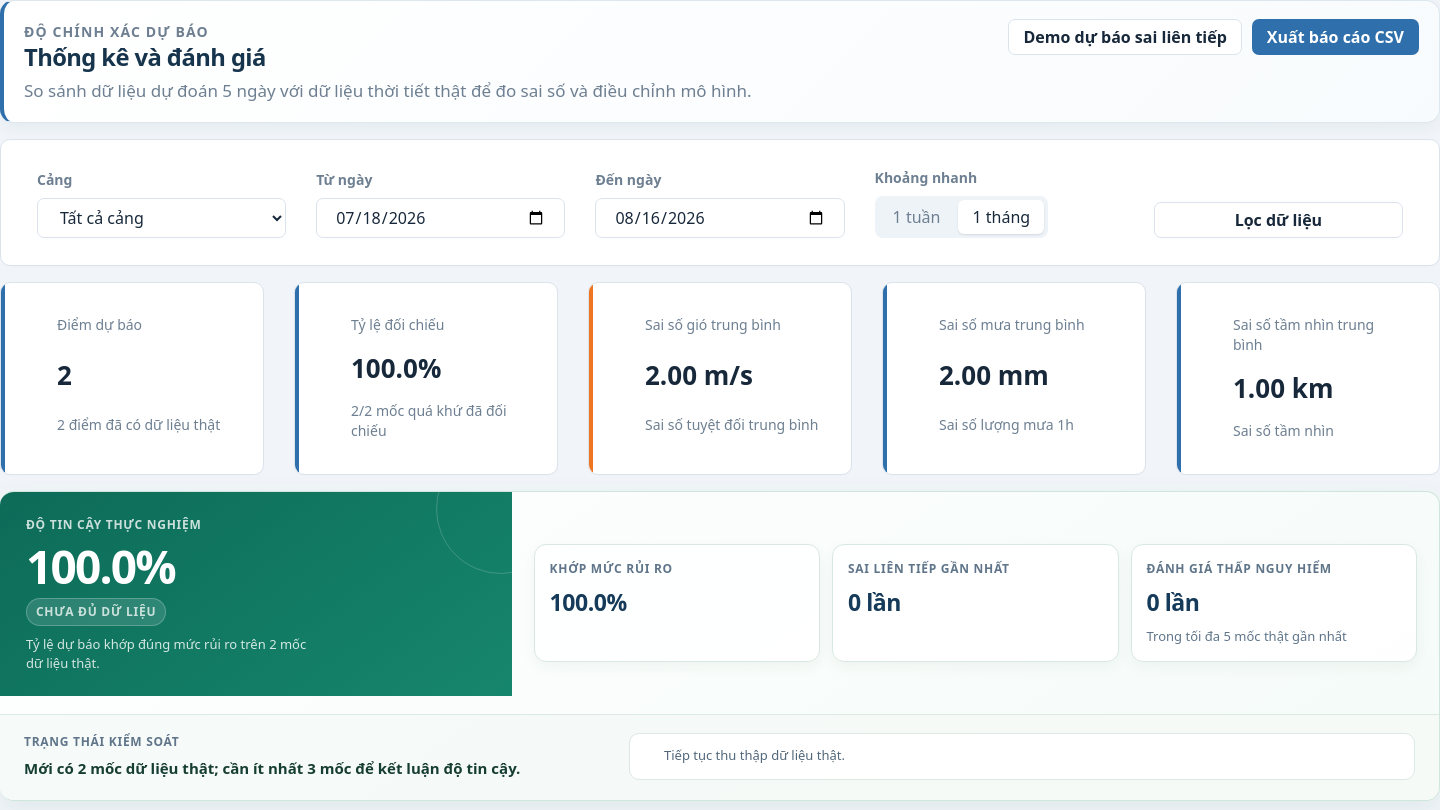
ForecastEvaluationPage › runs the intervention demonstration without mixing it with official data
The image size is (1440, 810).
Click the button "Demo dự báo sai liên tiếp".
click(1125, 37)  # box [1008,19,1242,55]
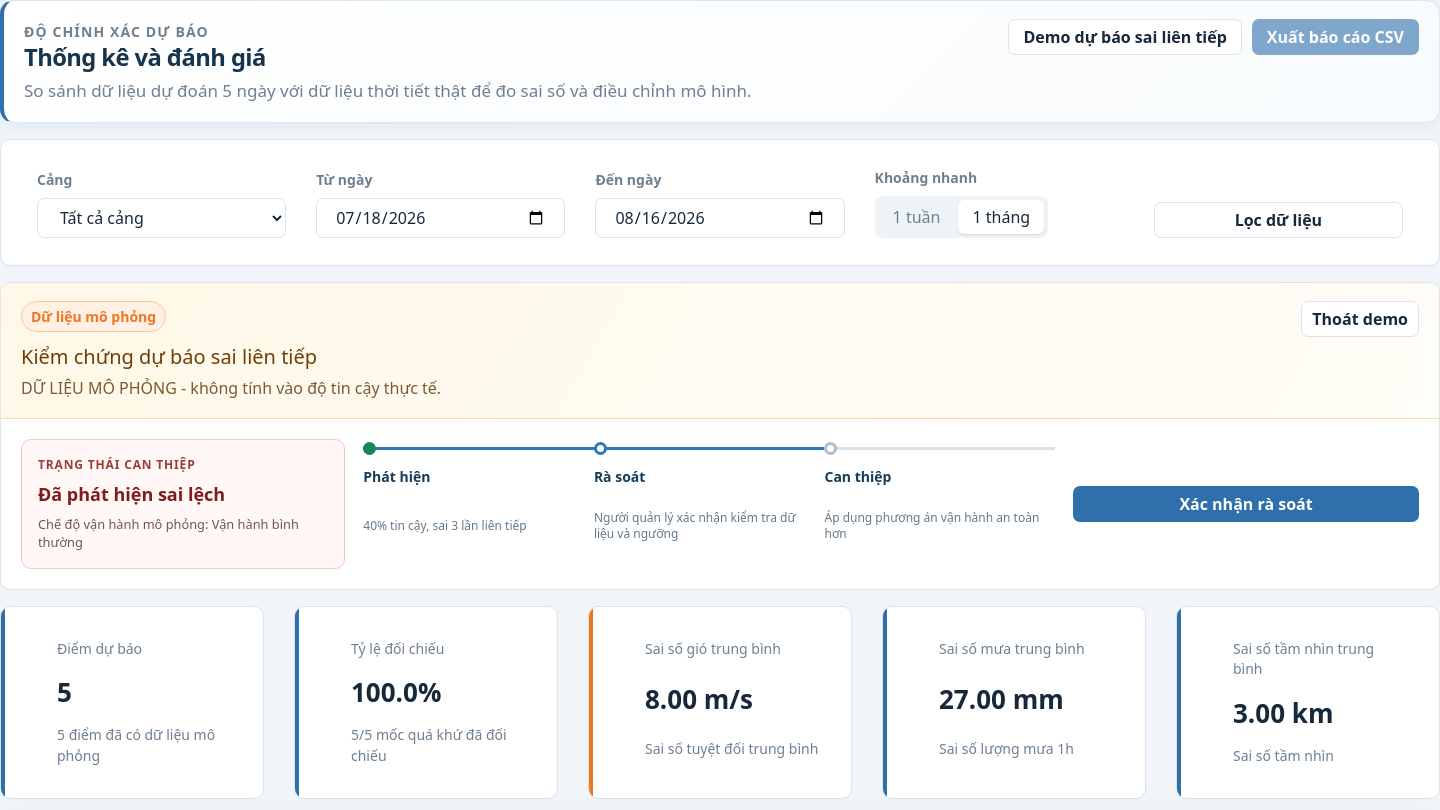
Check: the element named "Kịch bản mô phỏng can thiệp dự báo" is shown, box [0,282,1439,590]
Check: the text "Dữ liệu mô phỏng" is shown, box [21,301,166,332]
Click the button "Xác nhận rà soát".
click(1246, 504)  # box [1073,486,1419,522]
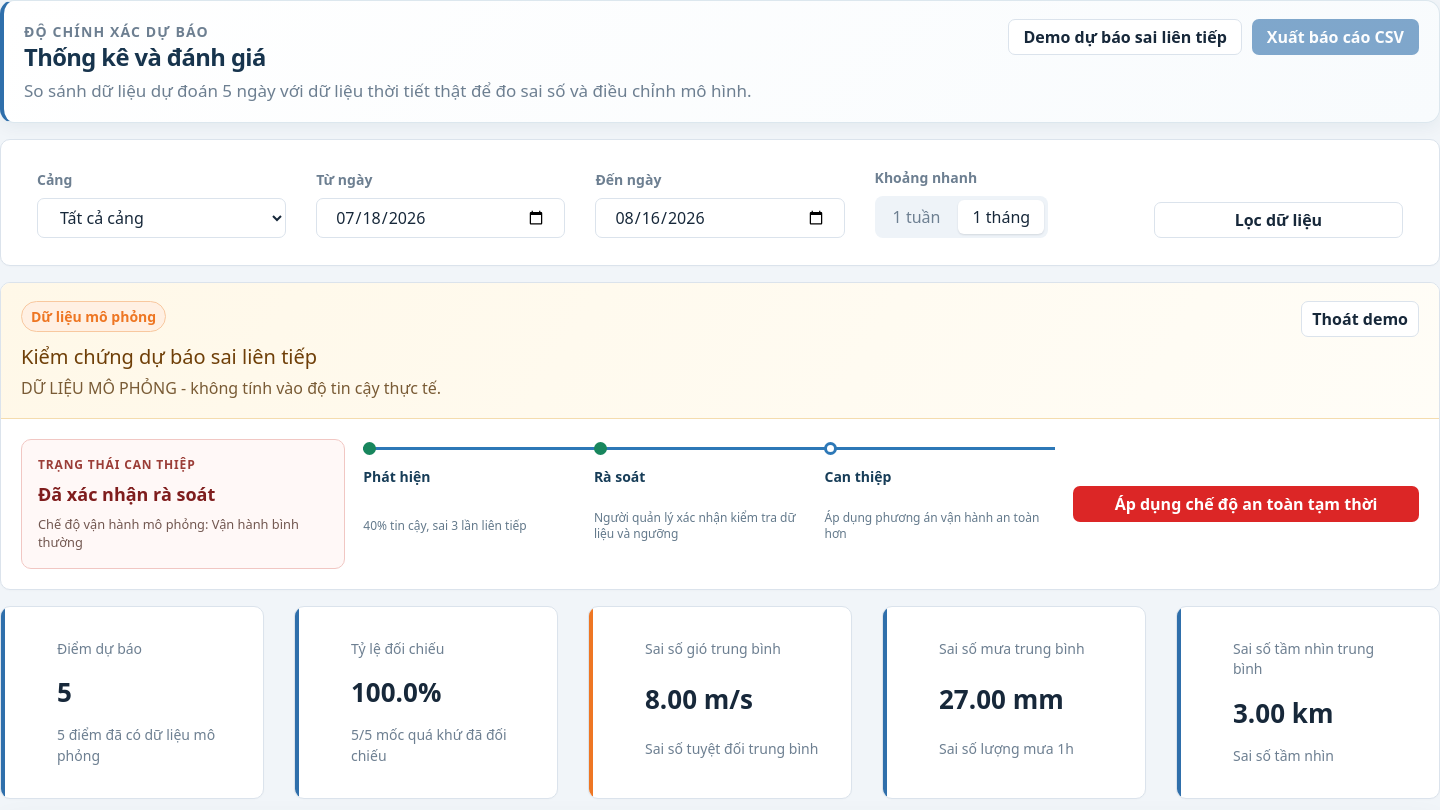
Check: the text "Đã xác nhận rà soát" is shown, box [38,482,215,506]
Click the button "Áp dụng chế độ an toàn tạm thời".
click(1246, 504)  # box [1073,486,1419,522]
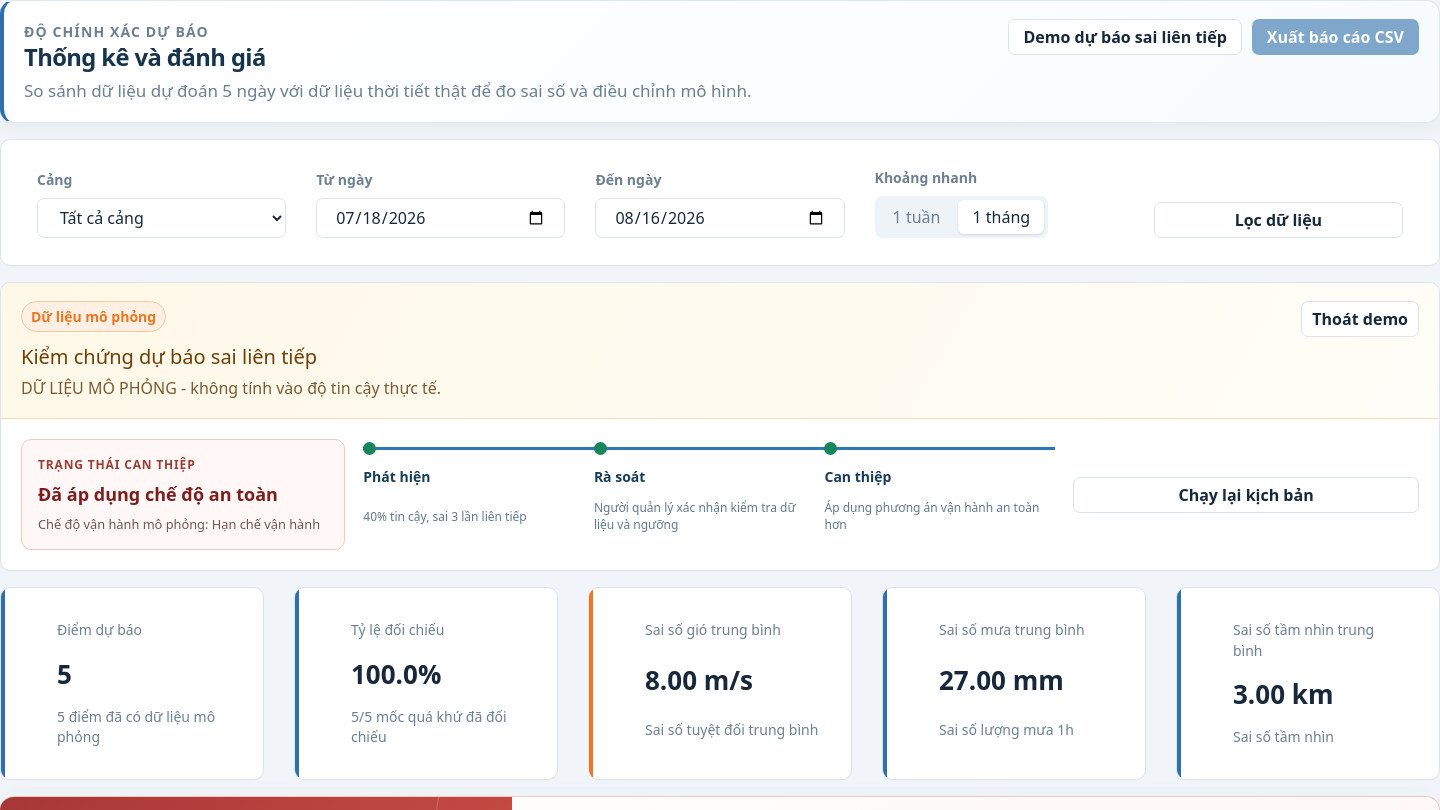
Check: the text "Đã áp dụng chế độ an toàn" is shown, box [38,482,278,506]
Check: the text "Chế độ vận hành mô phỏng: Hạn chế vận hành" is shown, box [38,515,328,533]
